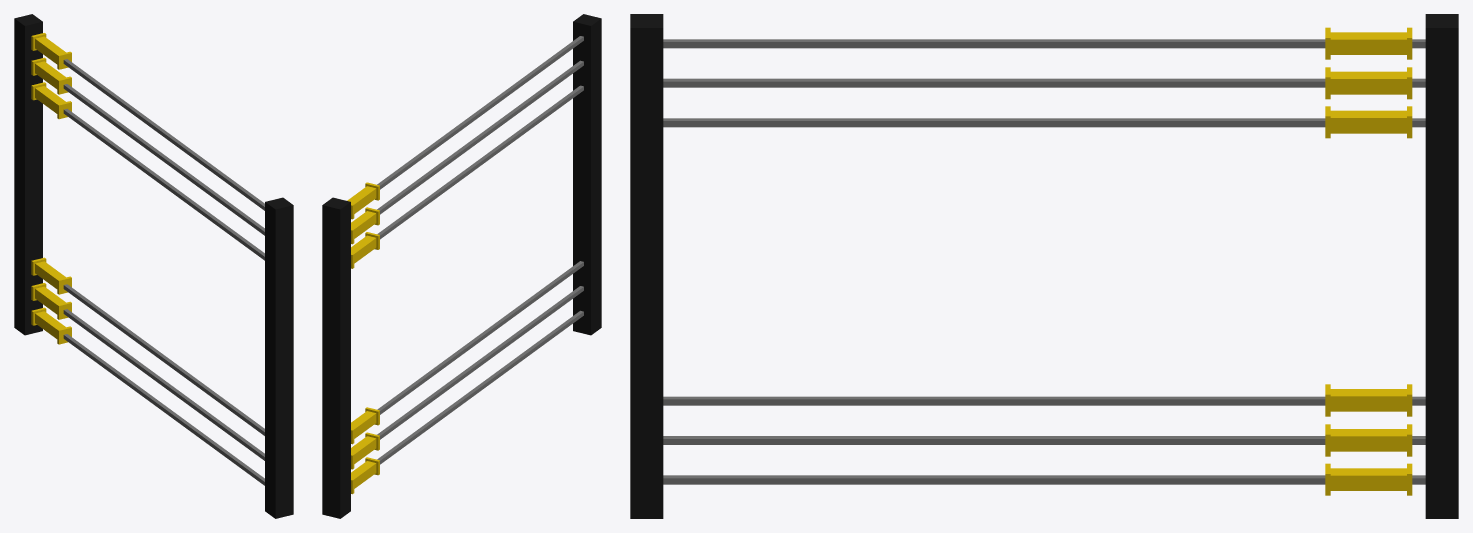
File: 電気柵.fbx
The picture shows the model from 3 angles, left to right: view 1: azimuth 30°, elevation 25°; view 2: azimuth 150°, elevation 25°; view 3: azimuth 270°, elevation 25°; orthographic projection. The views are drawn at different scales.
Visible parts, largest first — view 1: Cube.001, 立方体.001, 立方体, 立方体.009; view 2: Cube.001, 立方体.001, 立方体, 立方体.009; view 3: Cube.001, 立方体, 立方体.001, 立方体.009.
Boxes of the visible parts, bbox=[...] form: Cube.001: bbox=[14, 14, 293, 518]; 立方体.001: bbox=[63, 284, 264, 485]; 立方体: bbox=[63, 59, 264, 260]; 立方体.009: bbox=[31, 33, 71, 344]; Cube.001: bbox=[322, 14, 601, 518]; 立方体.001: bbox=[377, 261, 583, 464]; 立方体: bbox=[377, 36, 583, 239]; 立方体.009: bbox=[347, 182, 379, 494]; Cube.001: bbox=[630, 14, 1458, 518]; 立方体: bbox=[663, 39, 1425, 127]; 立方体.001: bbox=[663, 396, 1425, 484]; 立方体.009: bbox=[1325, 27, 1412, 495].
Bounding box in the file's own units: 0.3736 × 6.14 × 9.39.
